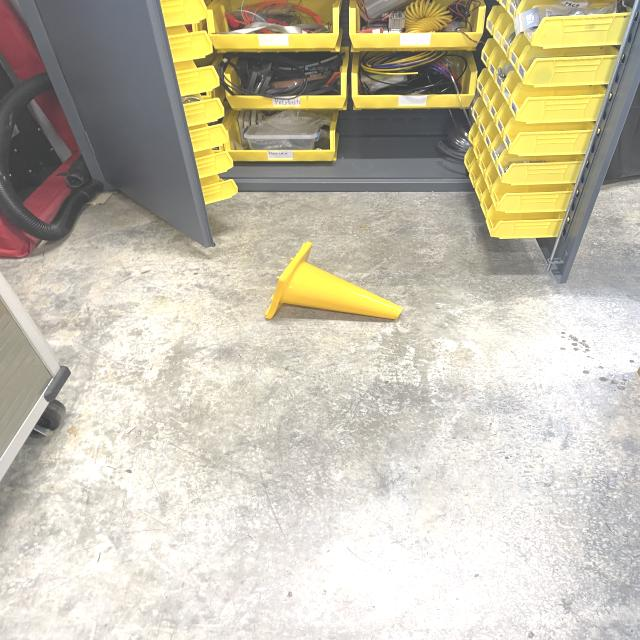frc_cone: (249, 239, 407, 324)
